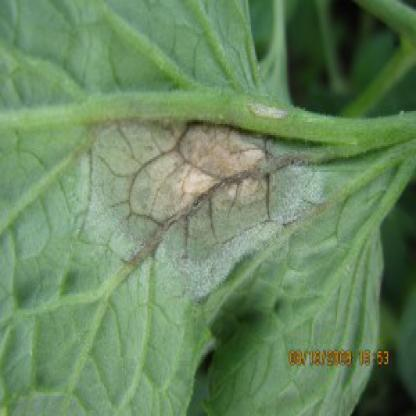tomato leaf late blight: (1, 7, 405, 414)
